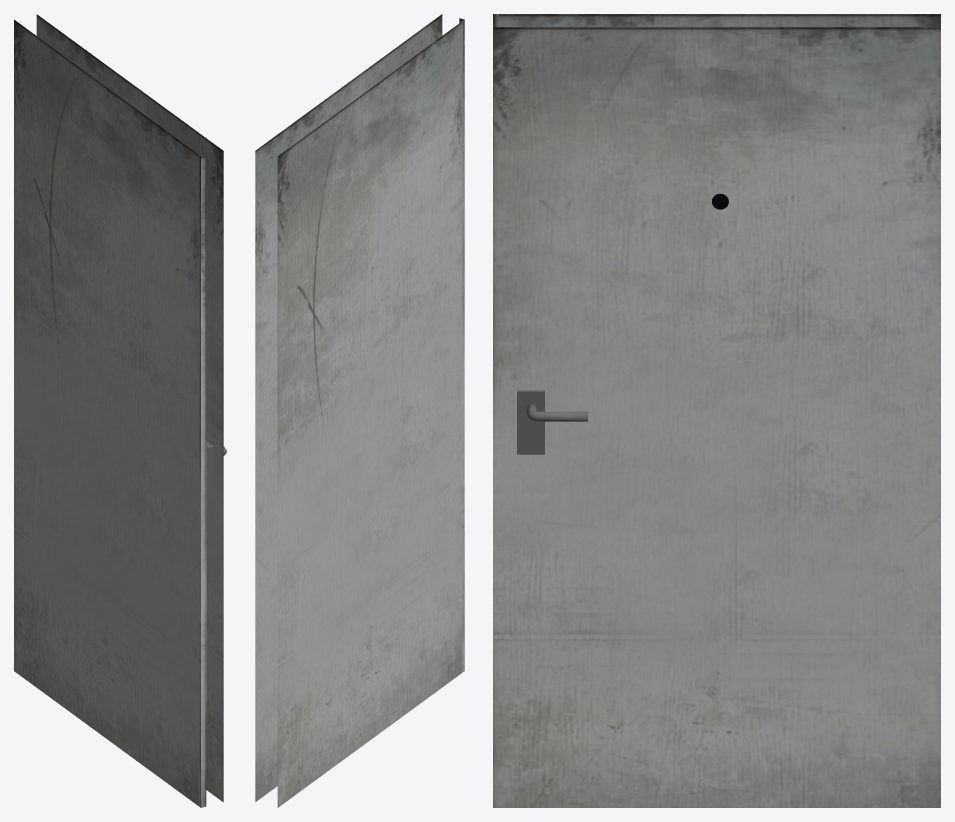
The model's file is Apt. 1 Door NEW.fbx.
3 views of the same model, side by side, from view 1: azimuth 30°, elevation 25°; view 2: azimuth 150°, elevation 25°; view 3: azimuth 270°, elevation 25° (orthographic). The views are drawn at different scales.
Parts seen in each view (by area): view 1: Door, Handle; view 2: Door; view 3: Door, Handle.
Boxes of the visible parts, bbox=[...] form: Door: bbox=[14, 14, 223, 807]; Handle: bbox=[206, 441, 226, 500]; Door: bbox=[255, 14, 464, 807]; Door: bbox=[493, 14, 940, 807]; Handle: bbox=[517, 390, 587, 454].
Bounding box in the file's own units: 26.46 × 385 × 200.
